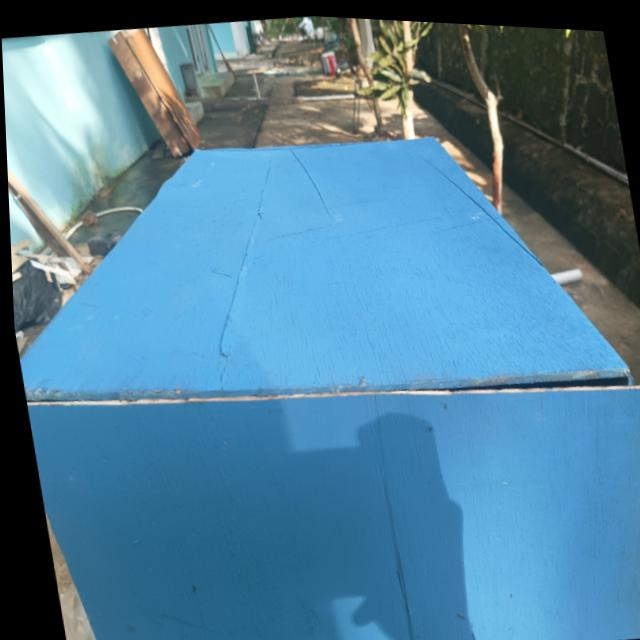blue_box: (2, 44, 640, 640)
